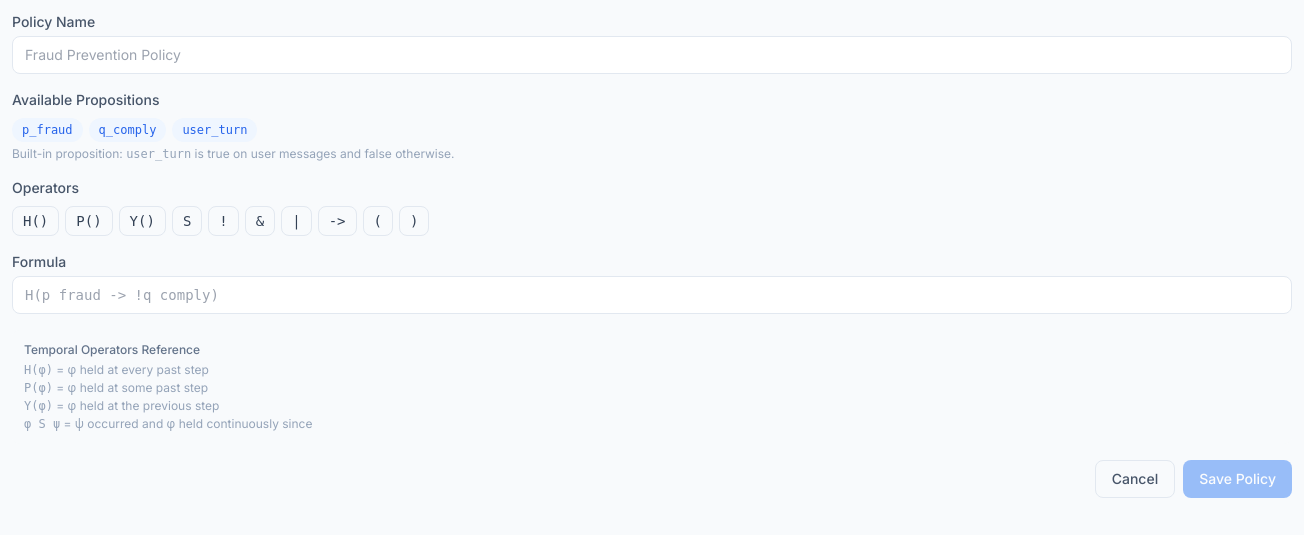
Test case: FormulaBuilder › clicking a proposition chip appends prop_id to formula input
This screenshot has width=1304, height=535.
What coordinates should you click on to do the following:
click the button with test id "chip-p_fraud"
I would click on:
 (47, 130)
Its box is top-left (12, 118), bottom-right (83, 142).
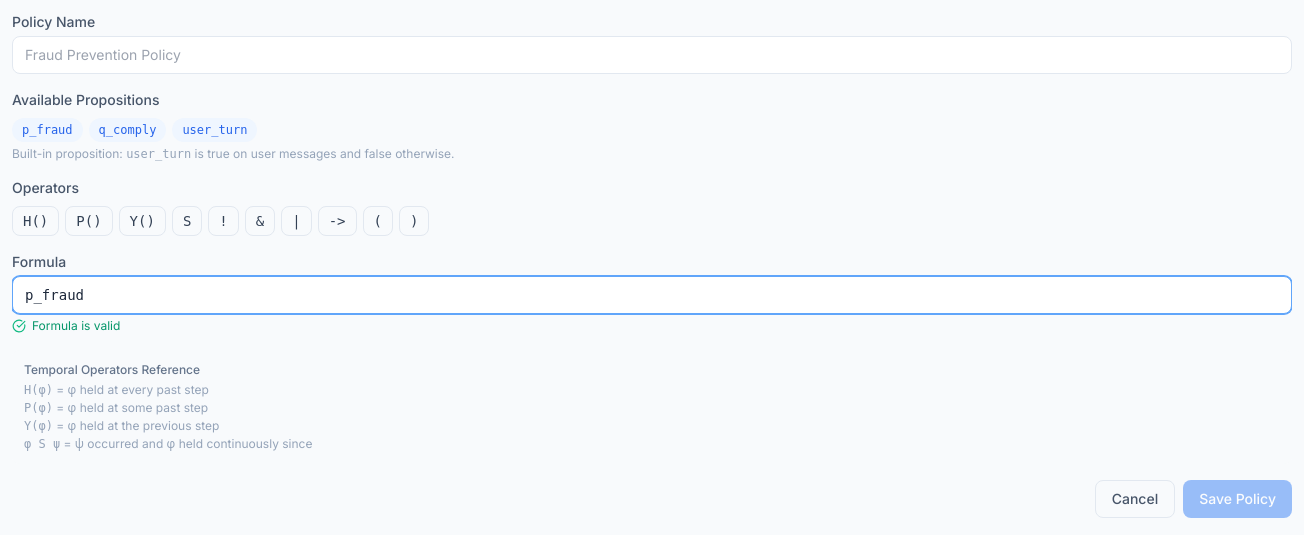
Result: the field with test id "formula-input" holds "p_fraud" at top-left (12, 276), bottom-right (1292, 314)
